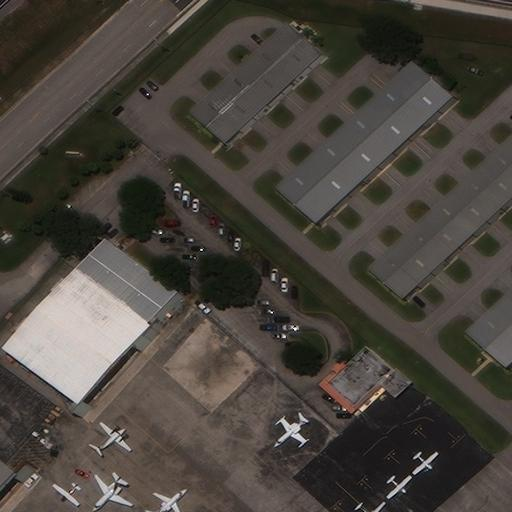Medium Civil Transport: (93, 475, 132, 511)
Small Civil Transport: (93, 422, 132, 451), (273, 416, 304, 447), (150, 488, 187, 511), (51, 484, 78, 507), (389, 476, 412, 499), (415, 453, 439, 475), (356, 503, 386, 511)
